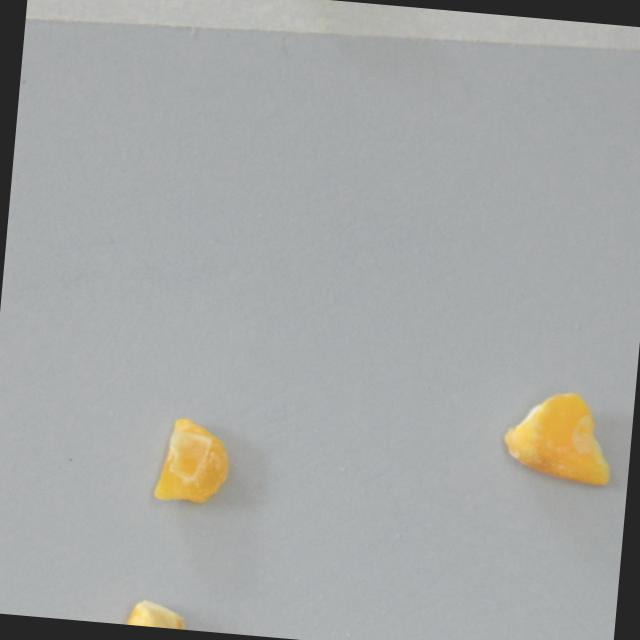pelicula: (501, 386, 618, 486), (148, 412, 237, 509), (117, 596, 187, 629)
